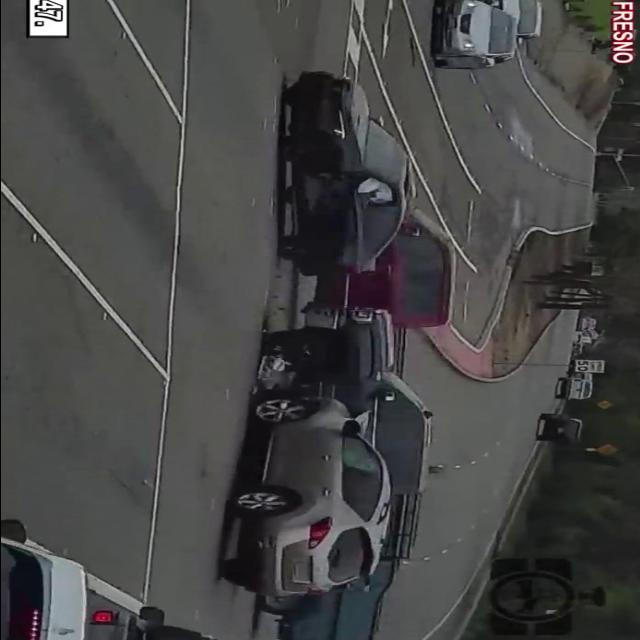accident: (206, 302, 455, 614), (240, 65, 426, 287)
